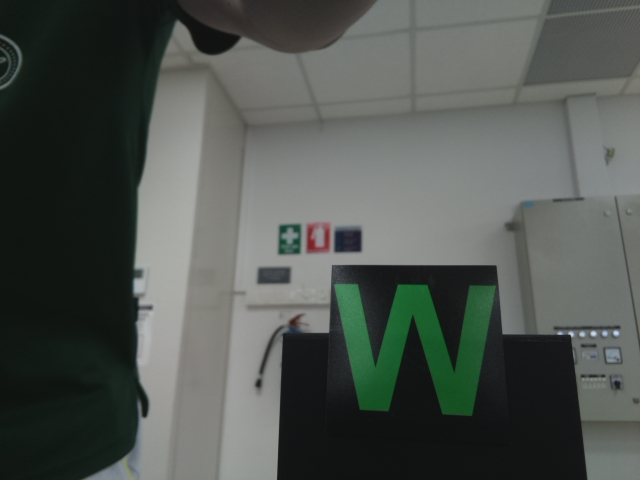w: (331, 274, 500, 427)
